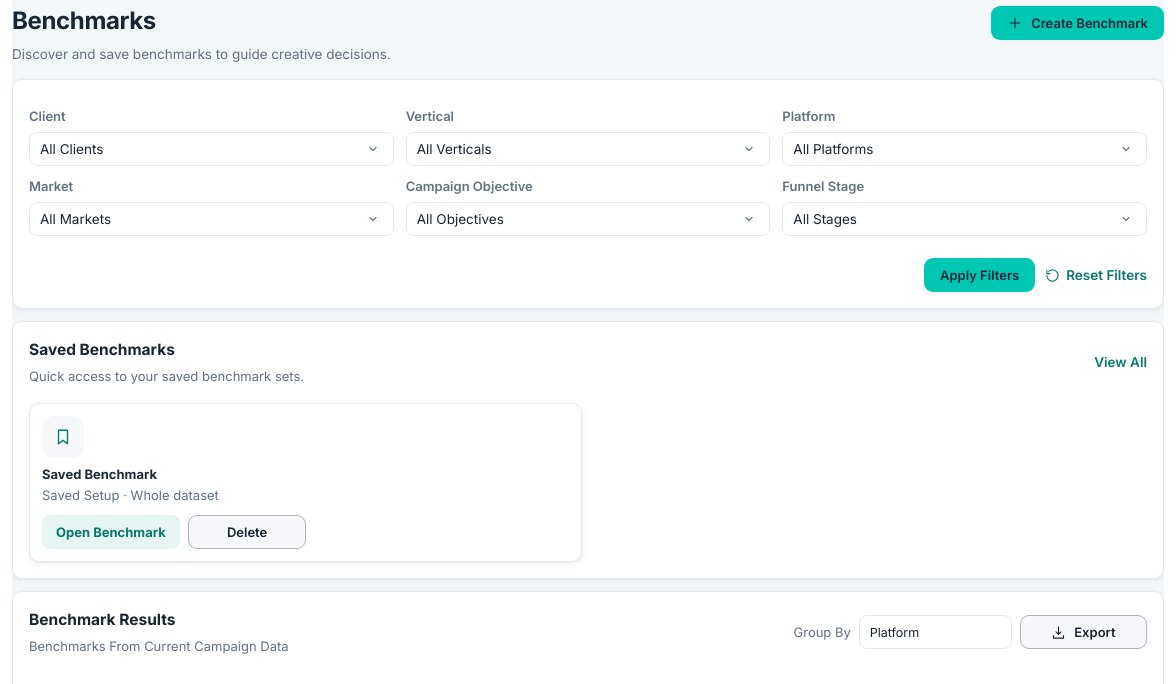
Test: BenchmarksPage › saves the current setup as a benchmark view
Click the button "Create Benchmark" at (1078, 23), box [991,6,1164,40]
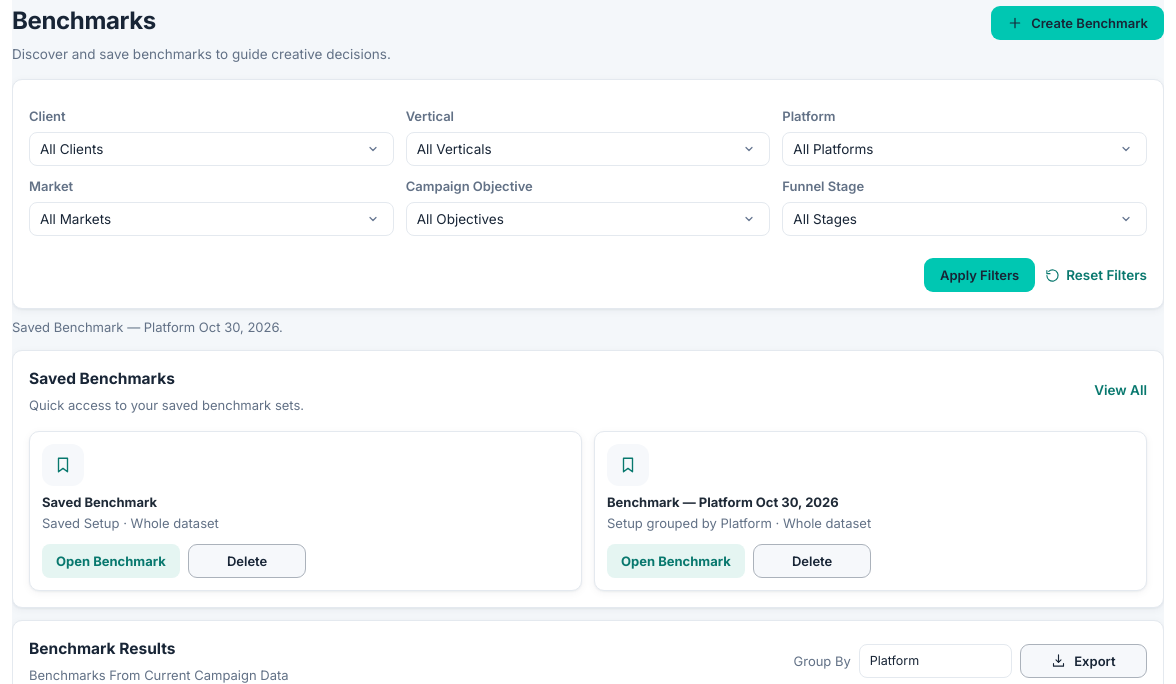
Result: the text "Saved Benchmark — Platform Oct 30, 2026." is shown at [12,319,283,335]
